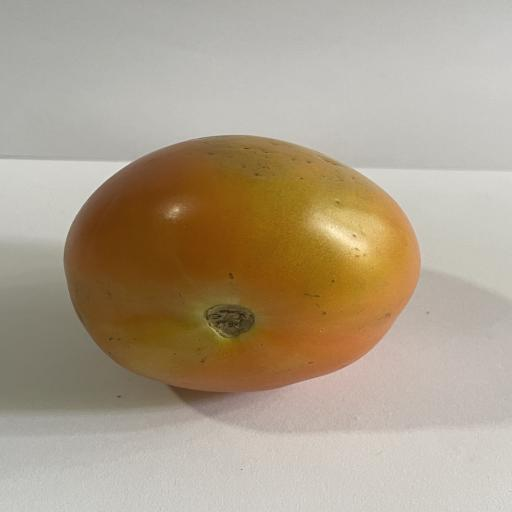unripe: (64, 136, 420, 391)
